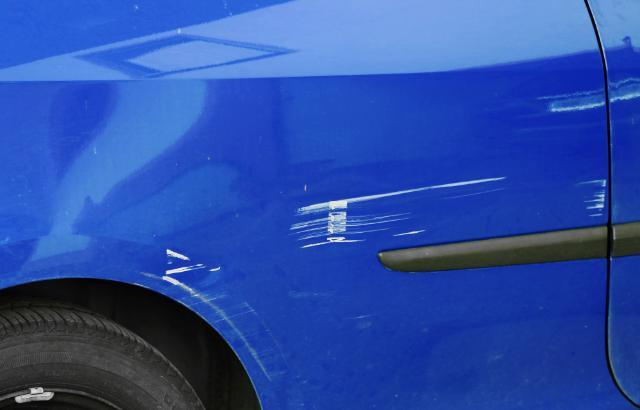scratch: (135, 247, 293, 382), (286, 175, 507, 250), (577, 177, 607, 223)
